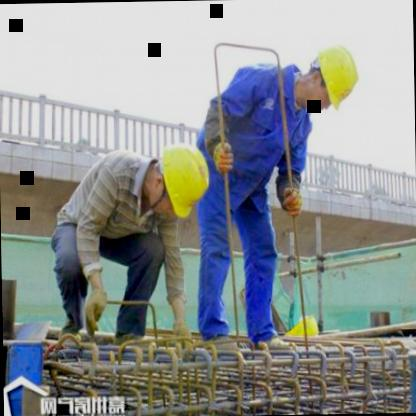helmet: (296, 37, 366, 121), (146, 138, 214, 221)
